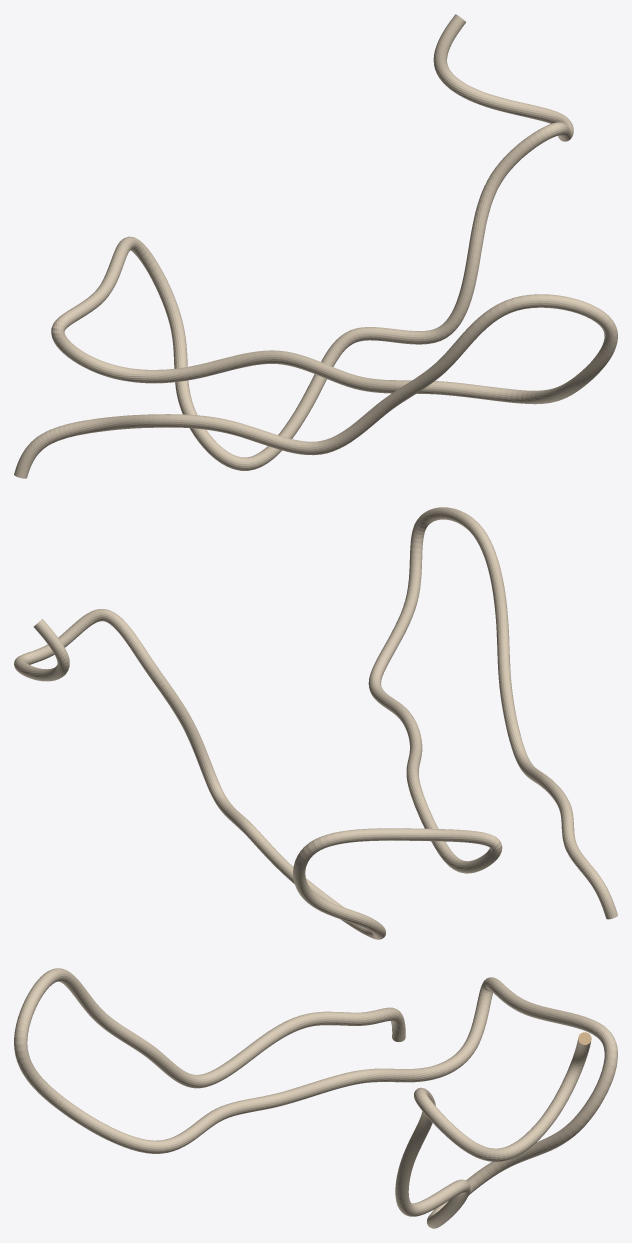
File: SheetSheetfCoil.dae
3 views of the same model, one above another, from view 1: azimuth 30°, elevation 25°; view 2: azimuth 150°, elevation 25°; view 3: azimuth 270°, elevation 25° (orthographic). The views are drawn at different scales.
Visible parts, largest first — view 1: Shape_IndexedTriangleStripSet_029; view 2: Shape_IndexedTriangleStripSet_029; view 3: Shape_IndexedTriangleStripSet_029.
Part boxes in pixels (x1,y1,x2,y2): Shape_IndexedTriangleStripSet_029: [14, 14, 617, 478]; Shape_IndexedTriangleStripSet_029: [14, 507, 617, 939]; Shape_IndexedTriangleStripSet_029: [14, 968, 617, 1228].
Size of the model in its own units: 25.81 by 22.41 by 13.51.
